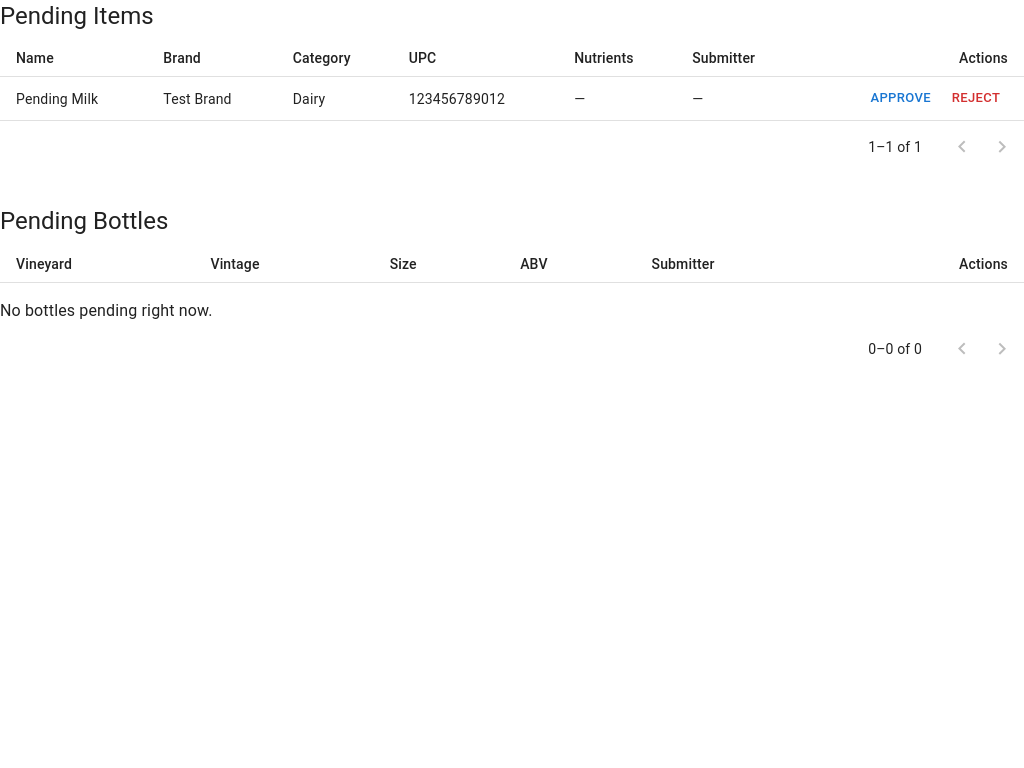
Test: pending items admin page › shows the api error when approve fails
Expected: the text "Pending Milk" is shown, x1=0 y1=77 x2=147 y2=121
Click the button "Approve" at (901, 99), box x1=865 y1=83 x2=936 y2=114
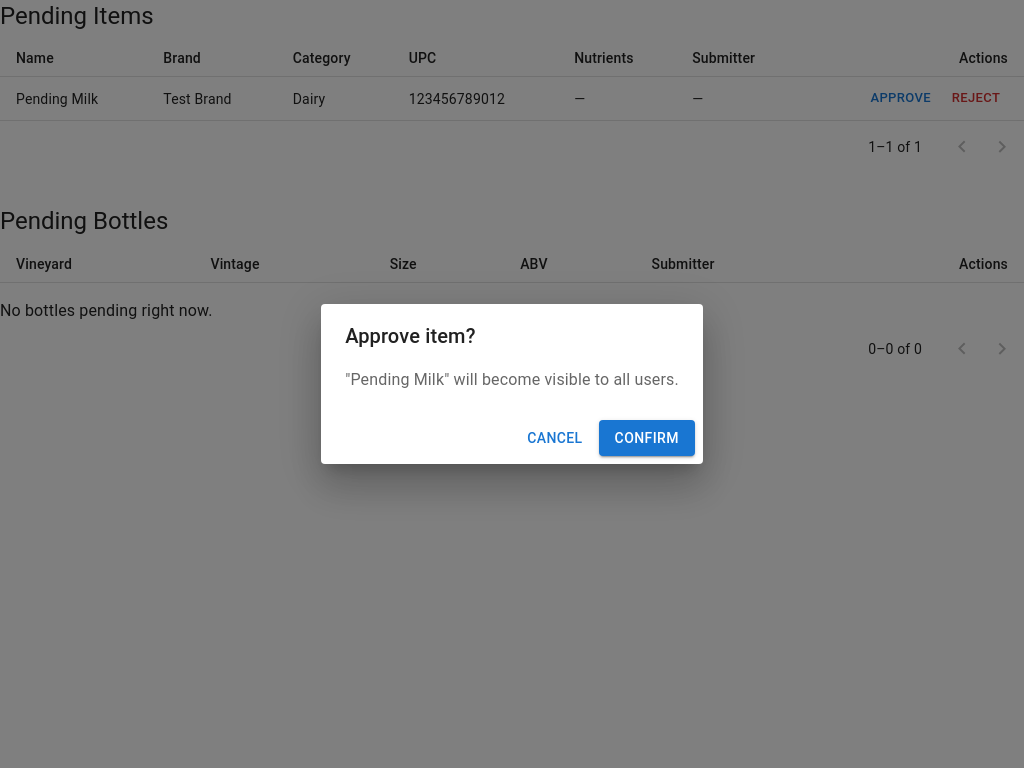
Click the button "Confirm" at (647, 438), box x1=599 y1=420 x2=695 y2=456
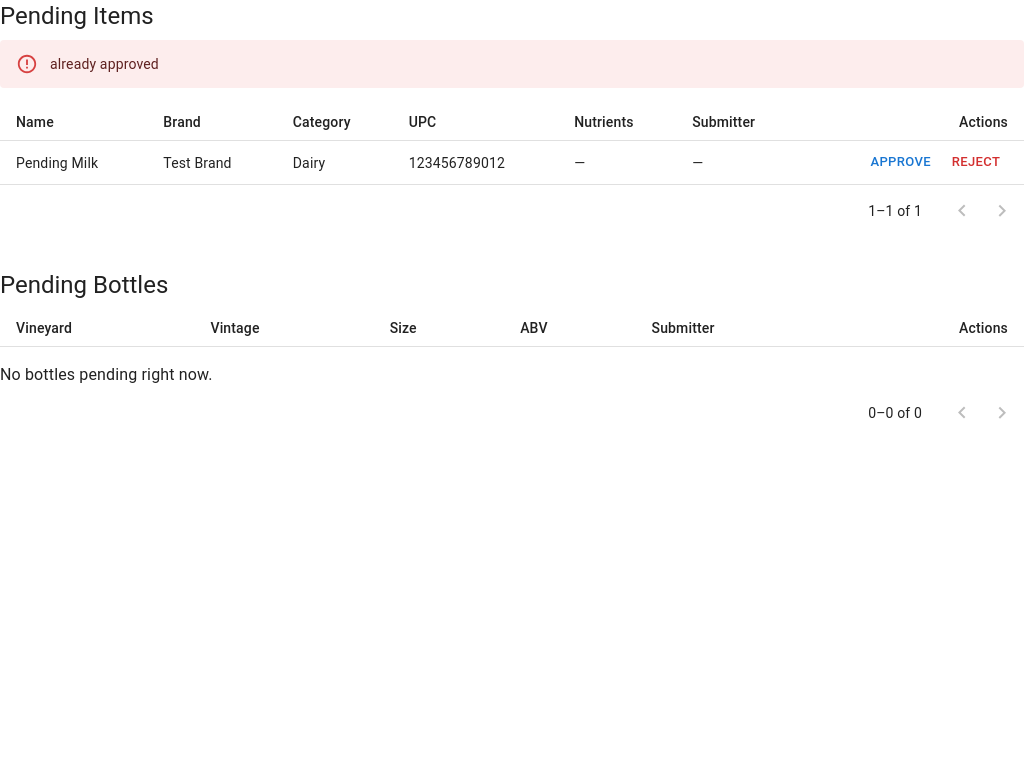
Now the text "already approved" is shown, box x1=50 y1=56 x2=159 y2=72
